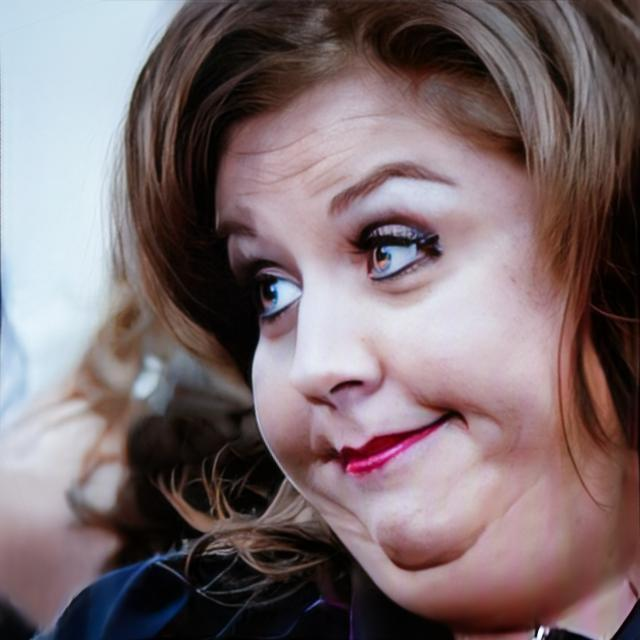surprise: (214, 61, 640, 626)
